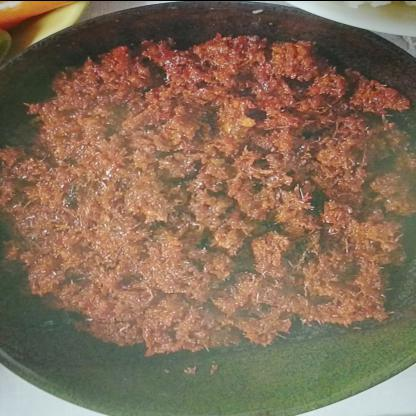Namprig: (5, 39, 415, 389)
